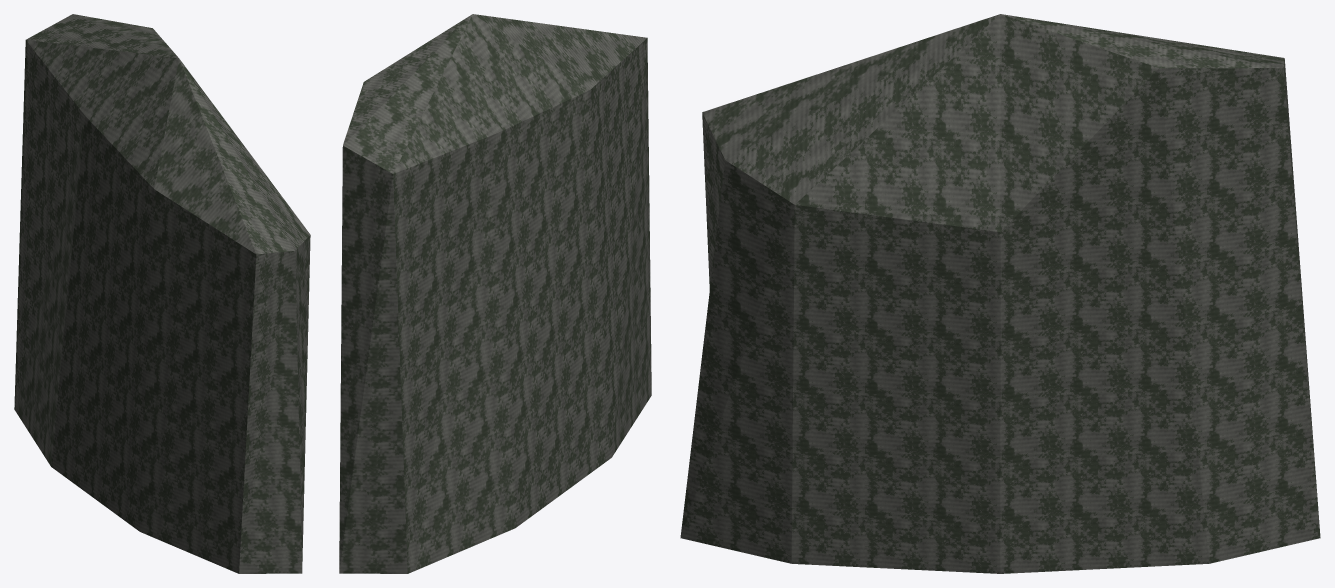
File: Cliff63279_LOD0.fbx
3 views of the same model, side by side, from view 1: azimuth 30°, elevation 25°; view 2: azimuth 150°, elevation 25°; view 3: azimuth 270°, elevation 25° (orthographic). The views are drawn at different scales.
Visible parts, largest first — view 1: Cliff63279_LOD0; view 2: Cliff63279_LOD0; view 3: Cliff63279_LOD0.
Boxes of the visible parts, x1,y1,x2,y2 form: Cliff63279_LOD0: [14, 14, 310, 573]; Cliff63279_LOD0: [339, 14, 651, 573]; Cliff63279_LOD0: [680, 14, 1320, 573].
Bounding box in the file's own units: 1248 × 3400 × 3742.
Materials: 1 (1 with a texture image).
